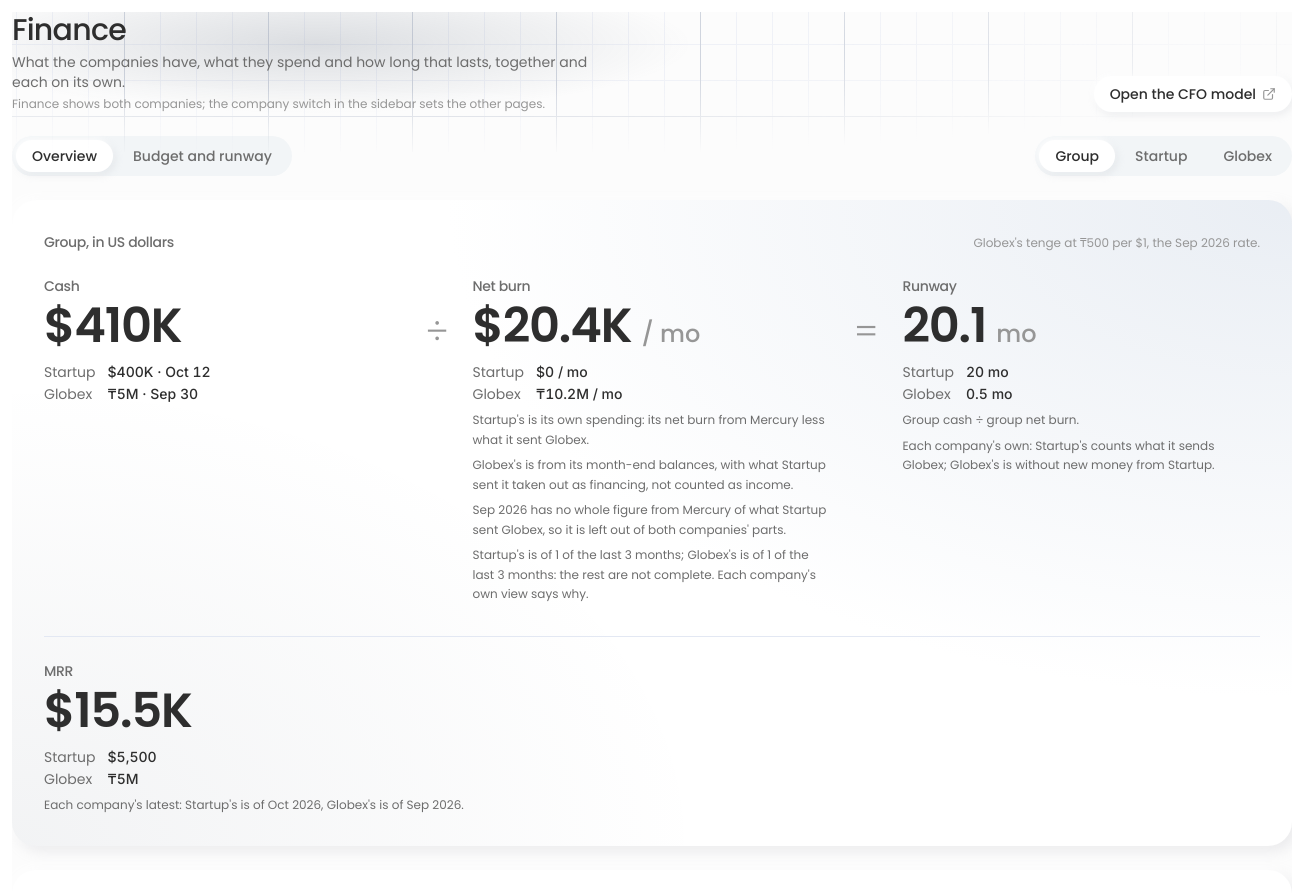
Scenario: the finance page › a month Mercury did not finish reading is not in Startup's average, and the group says whose is short
Expected: the text "Startup's is of 1 of the last 3 months" is shown, [472, 546, 816, 602]
Expected: the text "Sep 2026 has no whole figure from Mercury of what Startup sent Globex, so it is left out of both companies' parts." is shown, [472, 501, 826, 538]
Click the button "Startup" at (1161, 156), box [1119, 140, 1203, 172]
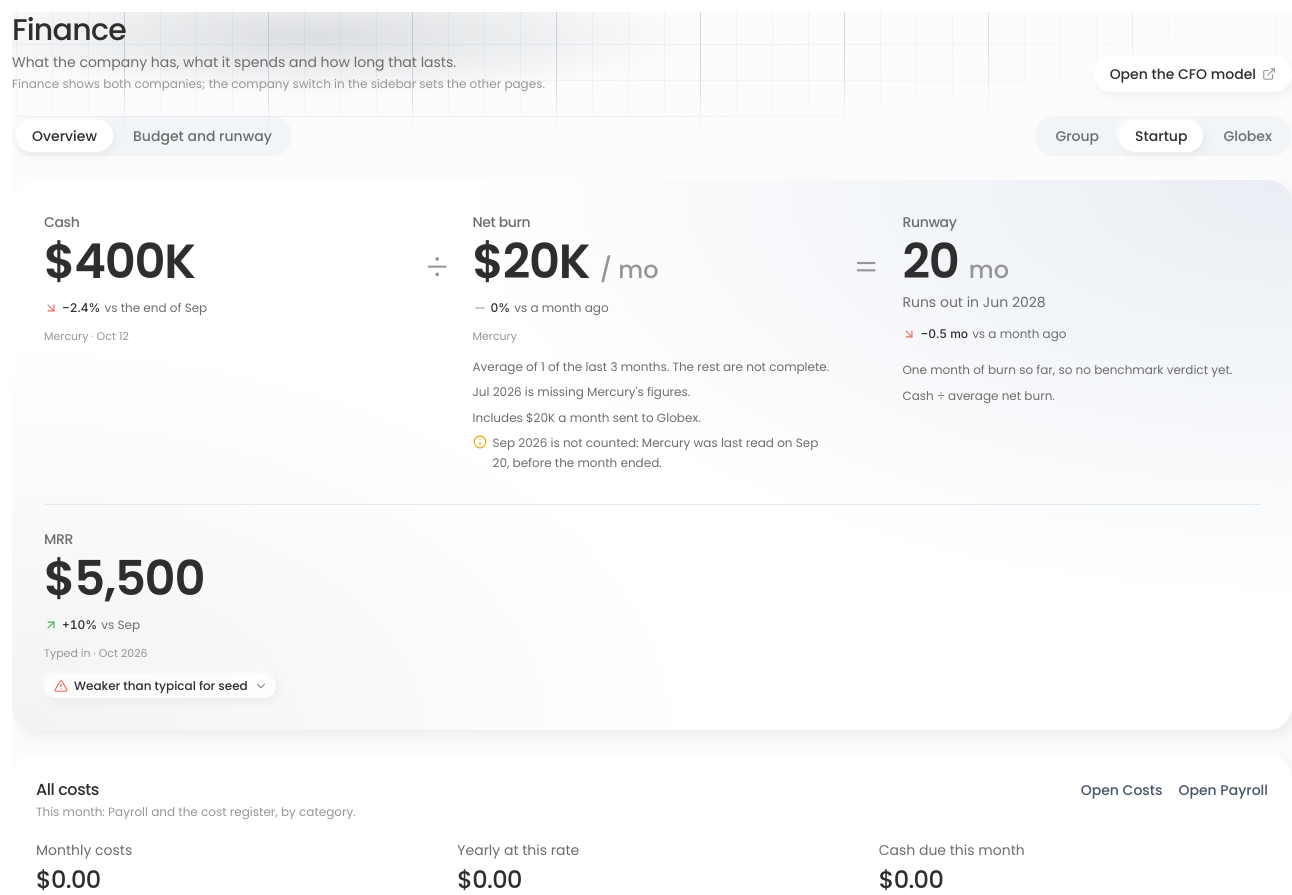
Expected: the text "Sep 2026 is not counted: Mercury was last read on Sep 20, before the month ended." is shown, [492, 434, 818, 470]
